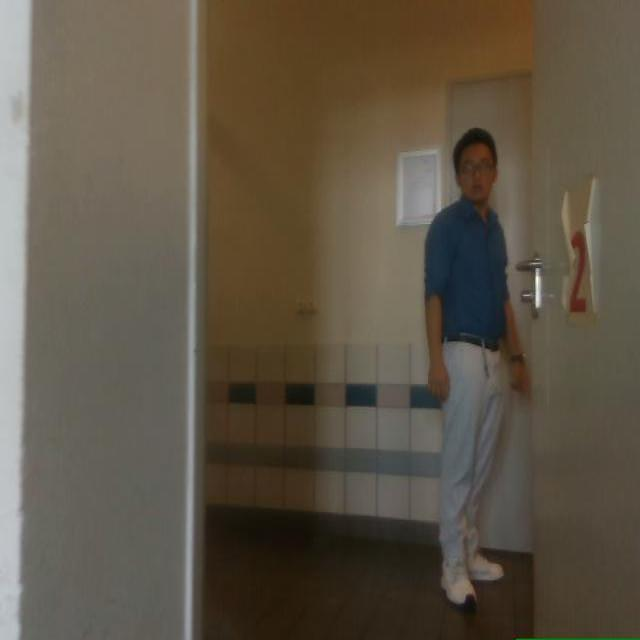humans: (425, 128, 528, 607)
objects: (527, 0, 639, 636)
